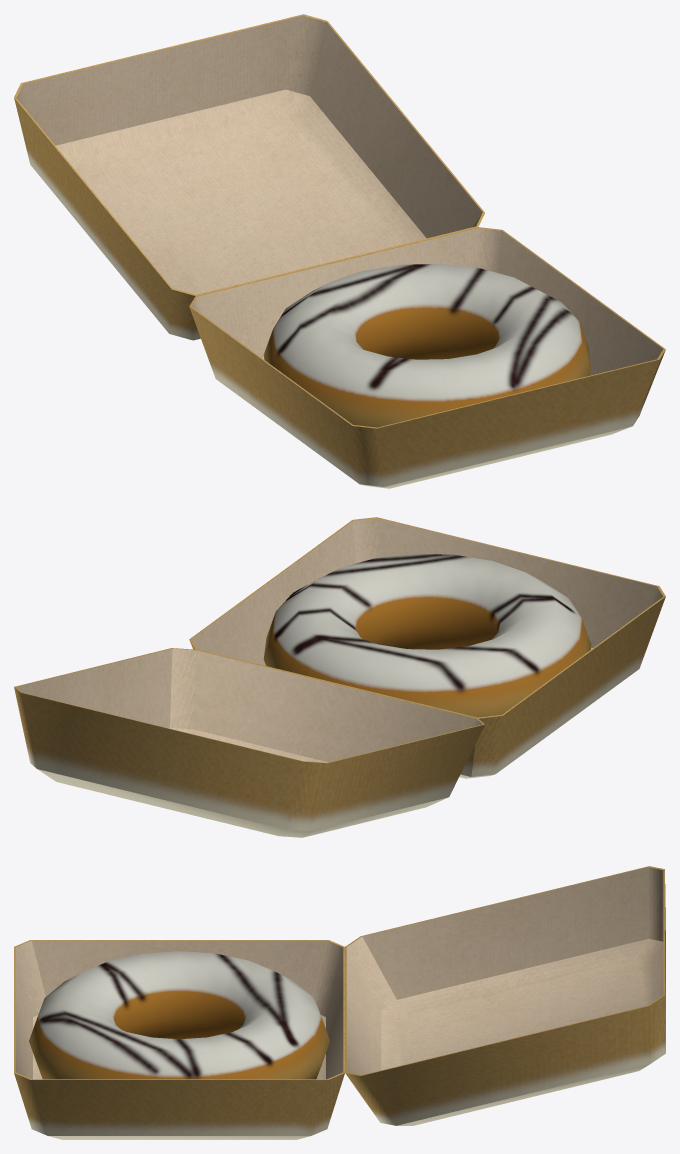
Rendered from Donut.fbx.
3 renders of one model, top to bottom at view 1: azimuth 30°, elevation 25°; view 2: azimuth 150°, elevation 25°; view 3: azimuth 270°, elevation 25°, orthographic. The views are drawn at different scales.
Visible parts, largest first — view 1: Donut; view 2: Donut; view 3: Donut.
Part boxes in pixels (box(x1,y1,x2,y2)): Donut: box(14, 14, 665, 488); Donut: box(14, 517, 665, 837); Donut: box(14, 866, 665, 1139).
Size of the model in its own units: 14.28 by 7.2 by 28.13.
